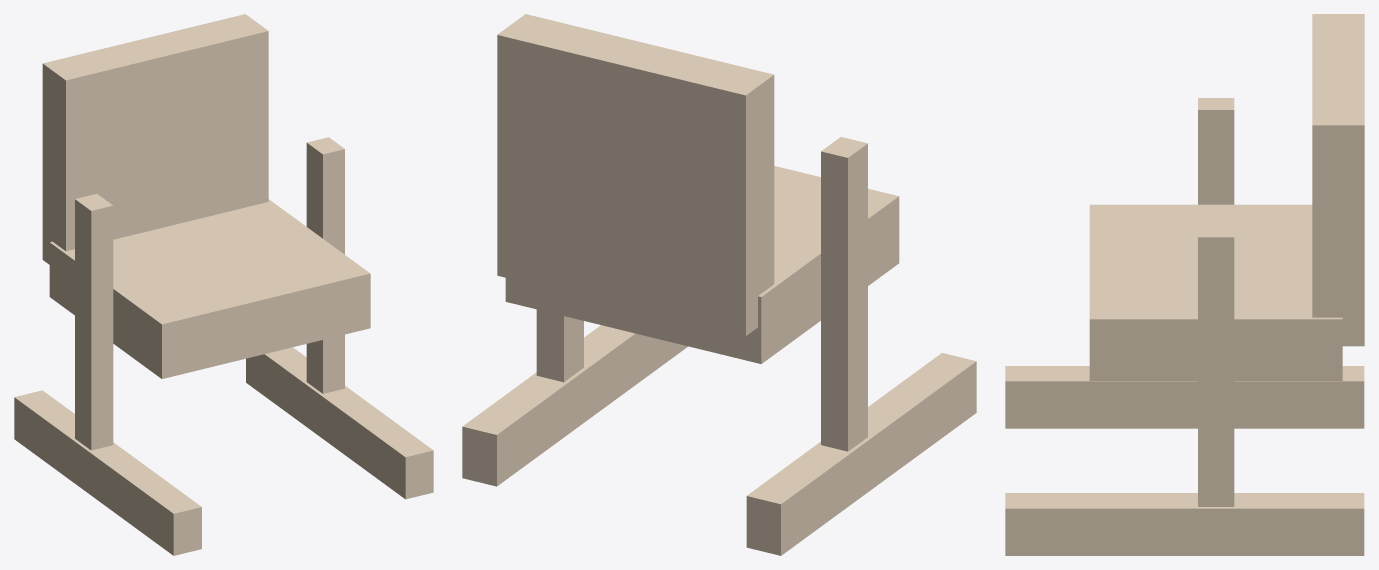
Rendered from demo-oak-lounge-chair.gltf.
The picture shows the model from 3 angles, left to right: view 1: azimuth 30°, elevation 25°; view 2: azimuth 150°, elevation 25°; view 3: azimuth 270°, elevation 25°; orthographic projection. The views are drawn at different scales.
Parts seen in each view (by area): view 1: back, seat, left-base, right-base, left-frame, right-frame; view 2: back, seat, left-base, left-frame, right-base, right-frame; view 3: seat, right-base, left-base, back, right-frame, left-frame.
Boxes of the visible parts, x1=… form: back: x1=42, y1=14, x2=268, y2=264; seat: x1=49, y1=199, x2=370, y2=378; left-base: x1=14, y1=390, x2=201, y2=555; right-base: x1=246, y1=347, x2=433, y2=499; left-frame: x1=75, y1=194, x2=113, y2=450; right-frame: x1=306, y1=137, x2=344, y2=393; back: x1=497, y1=14, x2=774, y2=336; seat: x1=505, y1=166, x2=899, y2=364; left-base: x1=746, y1=353, x2=976, y2=555; left-frame: x1=821, y1=137, x2=867, y2=451; right-base: x1=462, y1=325, x2=687, y2=486; right-frame: x1=536, y1=309, x2=583, y2=382; seat: x1=1089, y1=204, x2=1342, y2=380; right-base: x1=1005, y1=493, x2=1364, y2=555; left-base: x1=1005, y1=366, x2=1364, y2=428; back: x1=1312, y1=14, x2=1364, y2=346; right-frame: x1=1198, y1=225, x2=1234, y2=506; left-frame: x1=1198, y1=98, x2=1234, y2=204.
Size of the model in its own units: 0.646 by 0.8756 by 0.6872.
